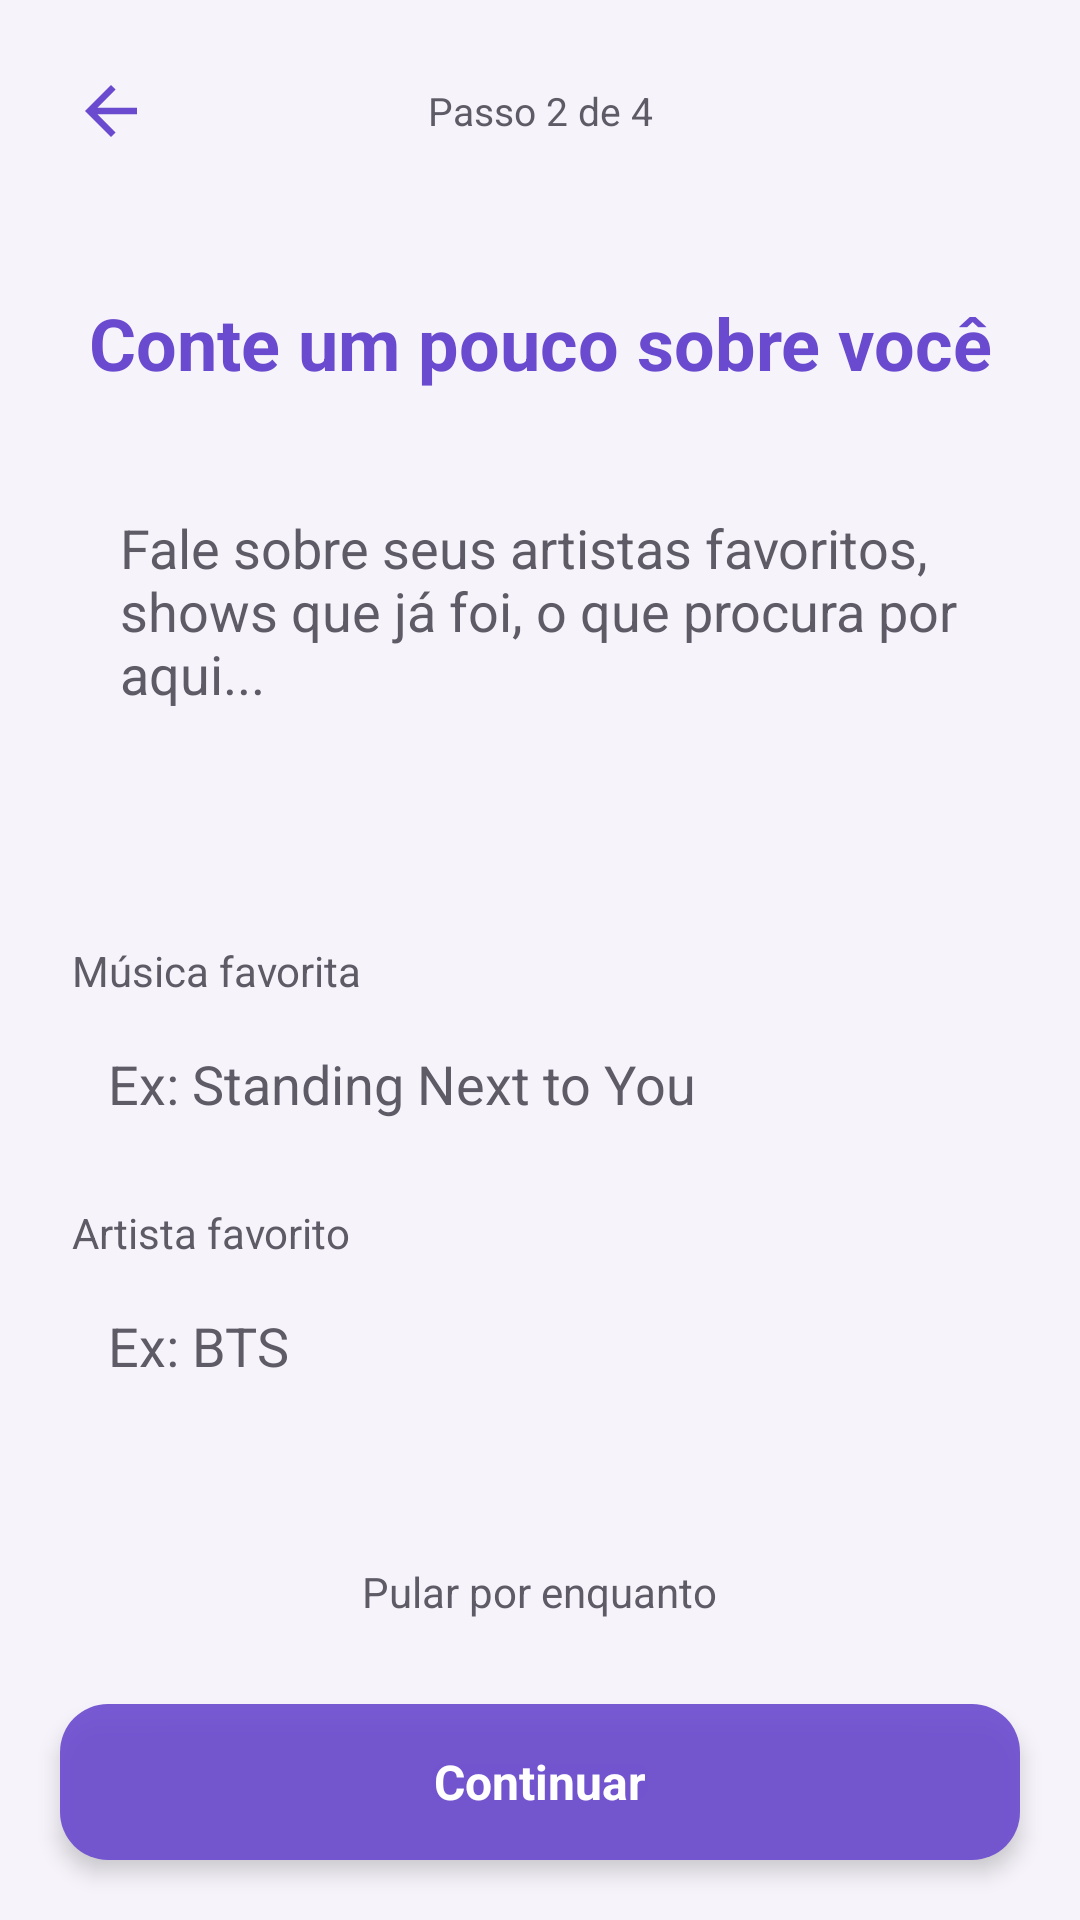

Icon click points for this 1080px x 1920px phone screenshot, format (x=x, y=y):
back: (x=111, y=111)
